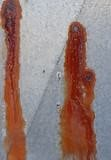Corrosion: (59, 21, 98, 160), (1, 1, 28, 160)
